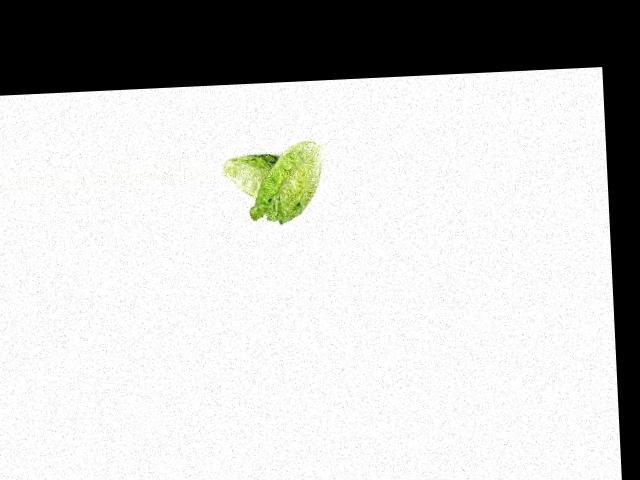lettuce: (220, 149, 281, 201)
